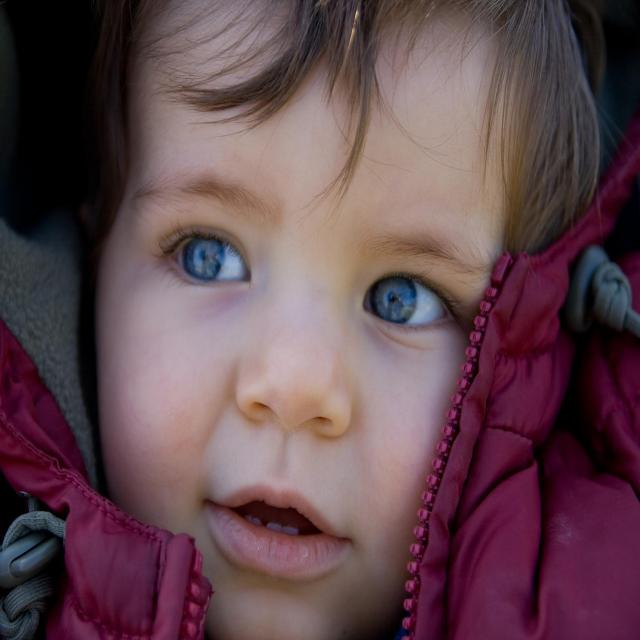no-glass: (156, 226, 421, 330)
